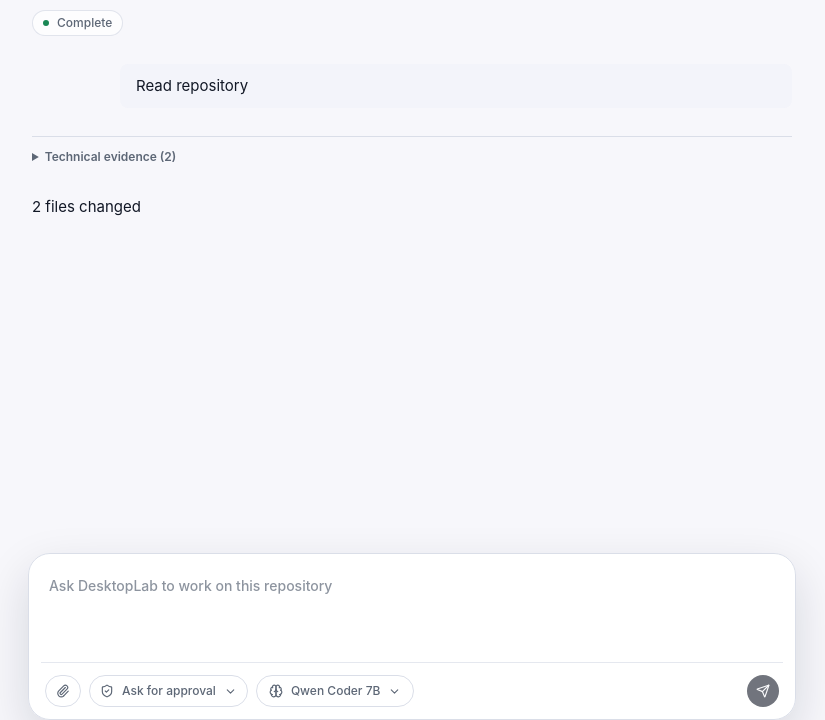
blocked sends refetch thread approvals immediately
Type "Create notes" into the text box named "Prompt" at (412, 614), box [41,566,783,662]
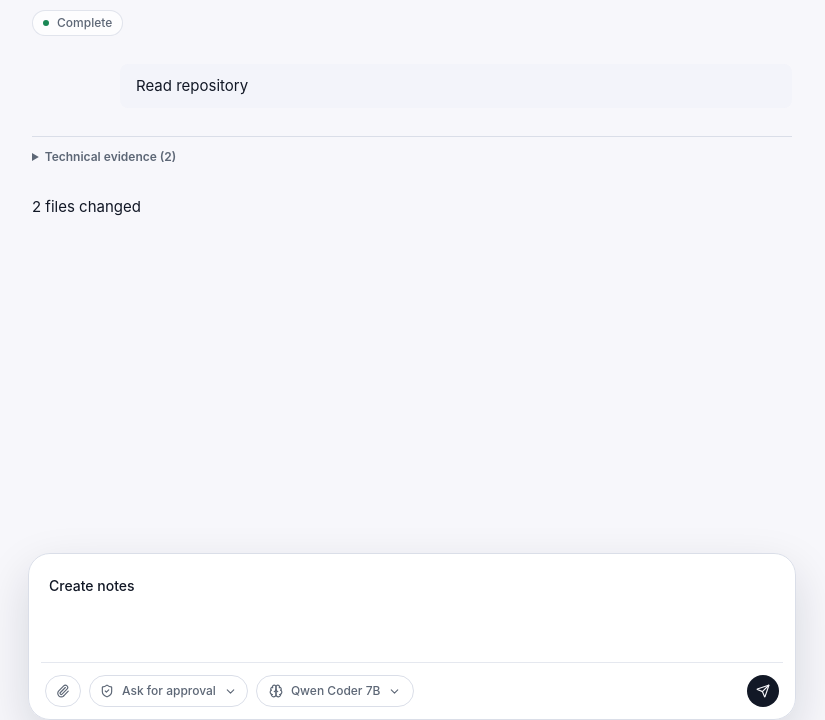
Click the button named "Send prompt" at (763, 691), box [747,675,779,707]
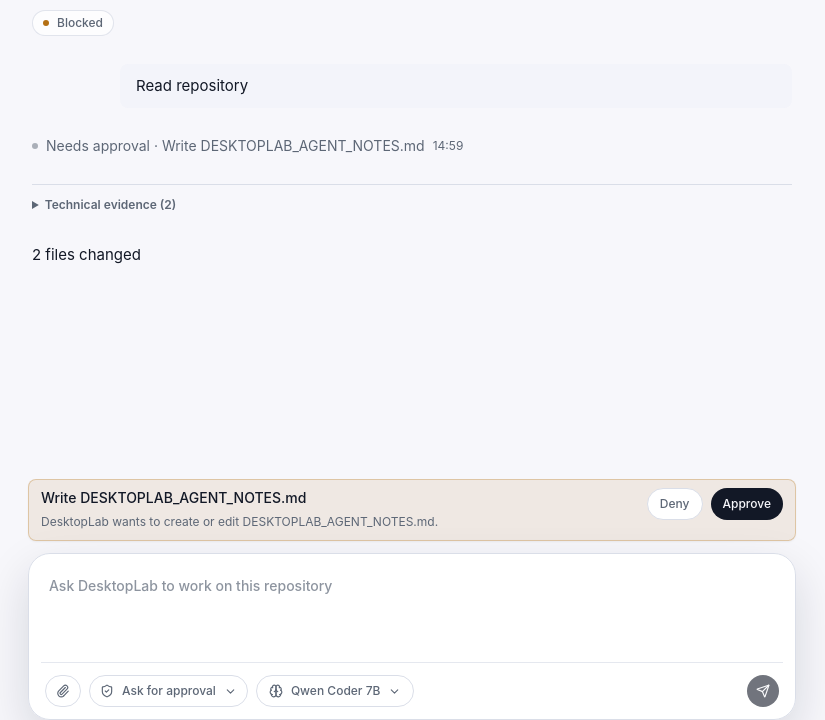
Expected: the element named "Thread approval required" shows "Write DESKTOPLAB_AGENT_NOTES.md", [41,489,306,506]
